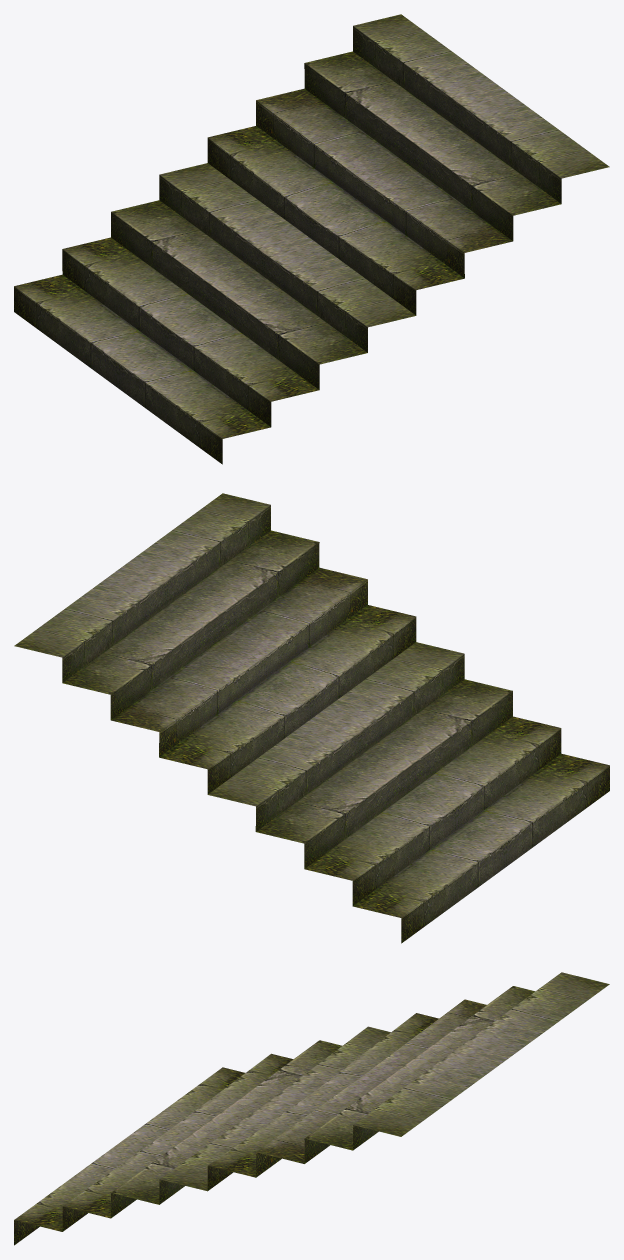
The model's file is yw_huanghunyaosai_louti01.FBX.
The picture shows the model from 3 angles, top to bottom: view 1: azimuth 30°, elevation 25°; view 2: azimuth 150°, elevation 25°; view 3: azimuth 330°, elevation 25°; orthographic projection.
Visible parts, largest first — view 1: yw_huanghunyaosai_louti01; view 2: yw_huanghunyaosai_louti01; view 3: yw_huanghunyaosai_louti01.
Part boxes in pixels (x1=…): yw_huanghunyaosai_louti01: x1=14, y1=14, x2=609, y2=464; yw_huanghunyaosai_louti01: x1=14, y1=493, x2=609, y2=943; yw_huanghunyaosai_louti01: x1=14, y1=972, x2=609, y2=1245.
Size of the model in its own units: 330 by 166 by 309.
